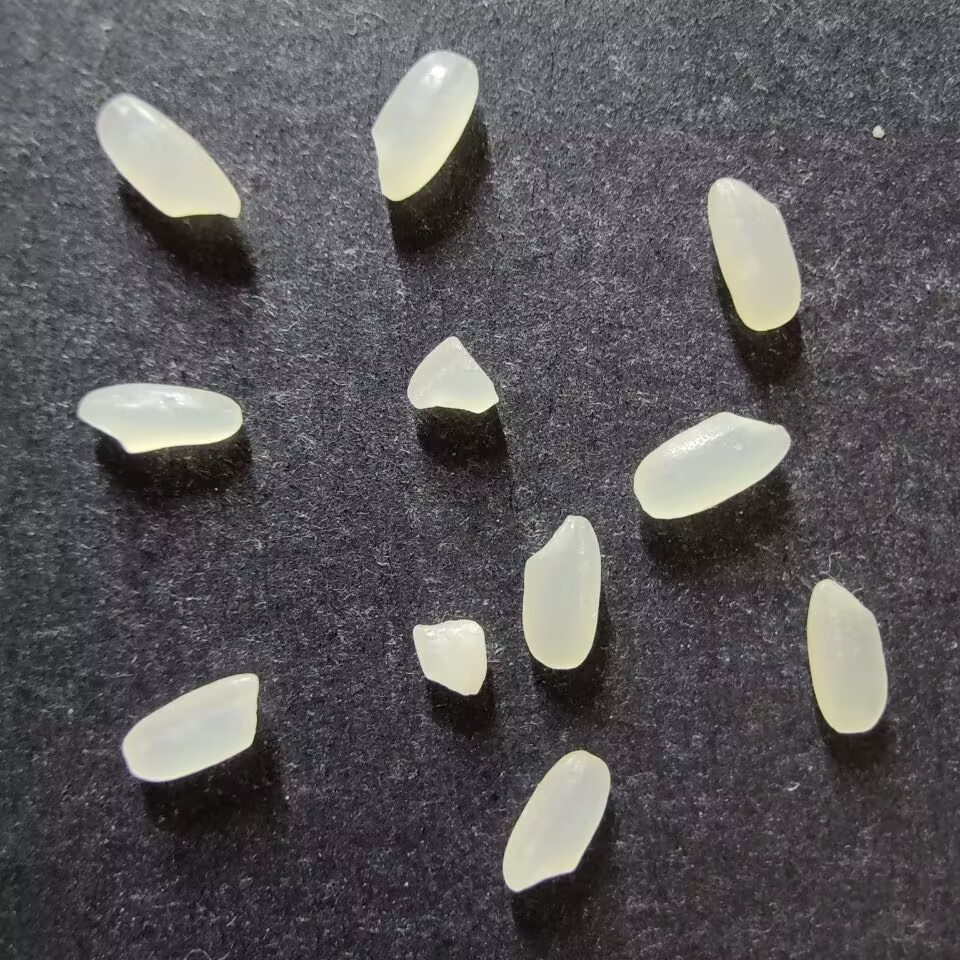broken: (406, 336, 498, 413), (412, 619, 486, 696)
rice: (96, 95, 241, 218), (632, 412, 791, 519), (370, 50, 478, 201), (501, 750, 610, 892), (122, 672, 258, 781), (706, 177, 800, 330), (806, 578, 887, 734), (521, 514, 600, 670), (77, 382, 242, 453)
